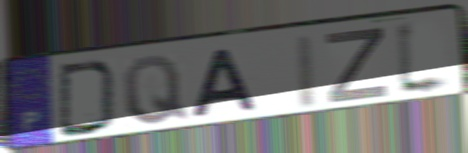A: (187, 46, 260, 120)
D: (56, 59, 121, 140)
I: (294, 32, 320, 112)
L: (393, 17, 454, 100)
Q: (120, 53, 191, 127)
Z: (324, 25, 391, 106)
